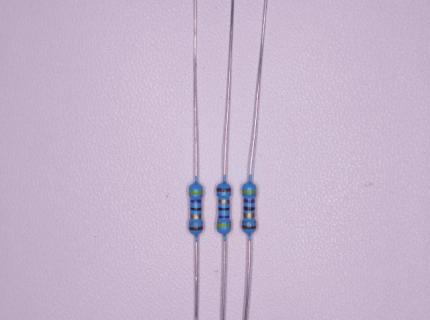Black band: (243, 205, 255, 211), (189, 207, 201, 211), (218, 207, 230, 211)
Brown band: (189, 225, 203, 231), (241, 224, 257, 229), (216, 187, 231, 192)
Gold band: (218, 198, 230, 203), (243, 213, 255, 218), (190, 214, 201, 219)
Violet band: (244, 198, 255, 203), (217, 215, 230, 219), (190, 199, 202, 203)
Yellow band: (217, 223, 231, 229), (241, 189, 257, 194), (188, 190, 203, 195)
